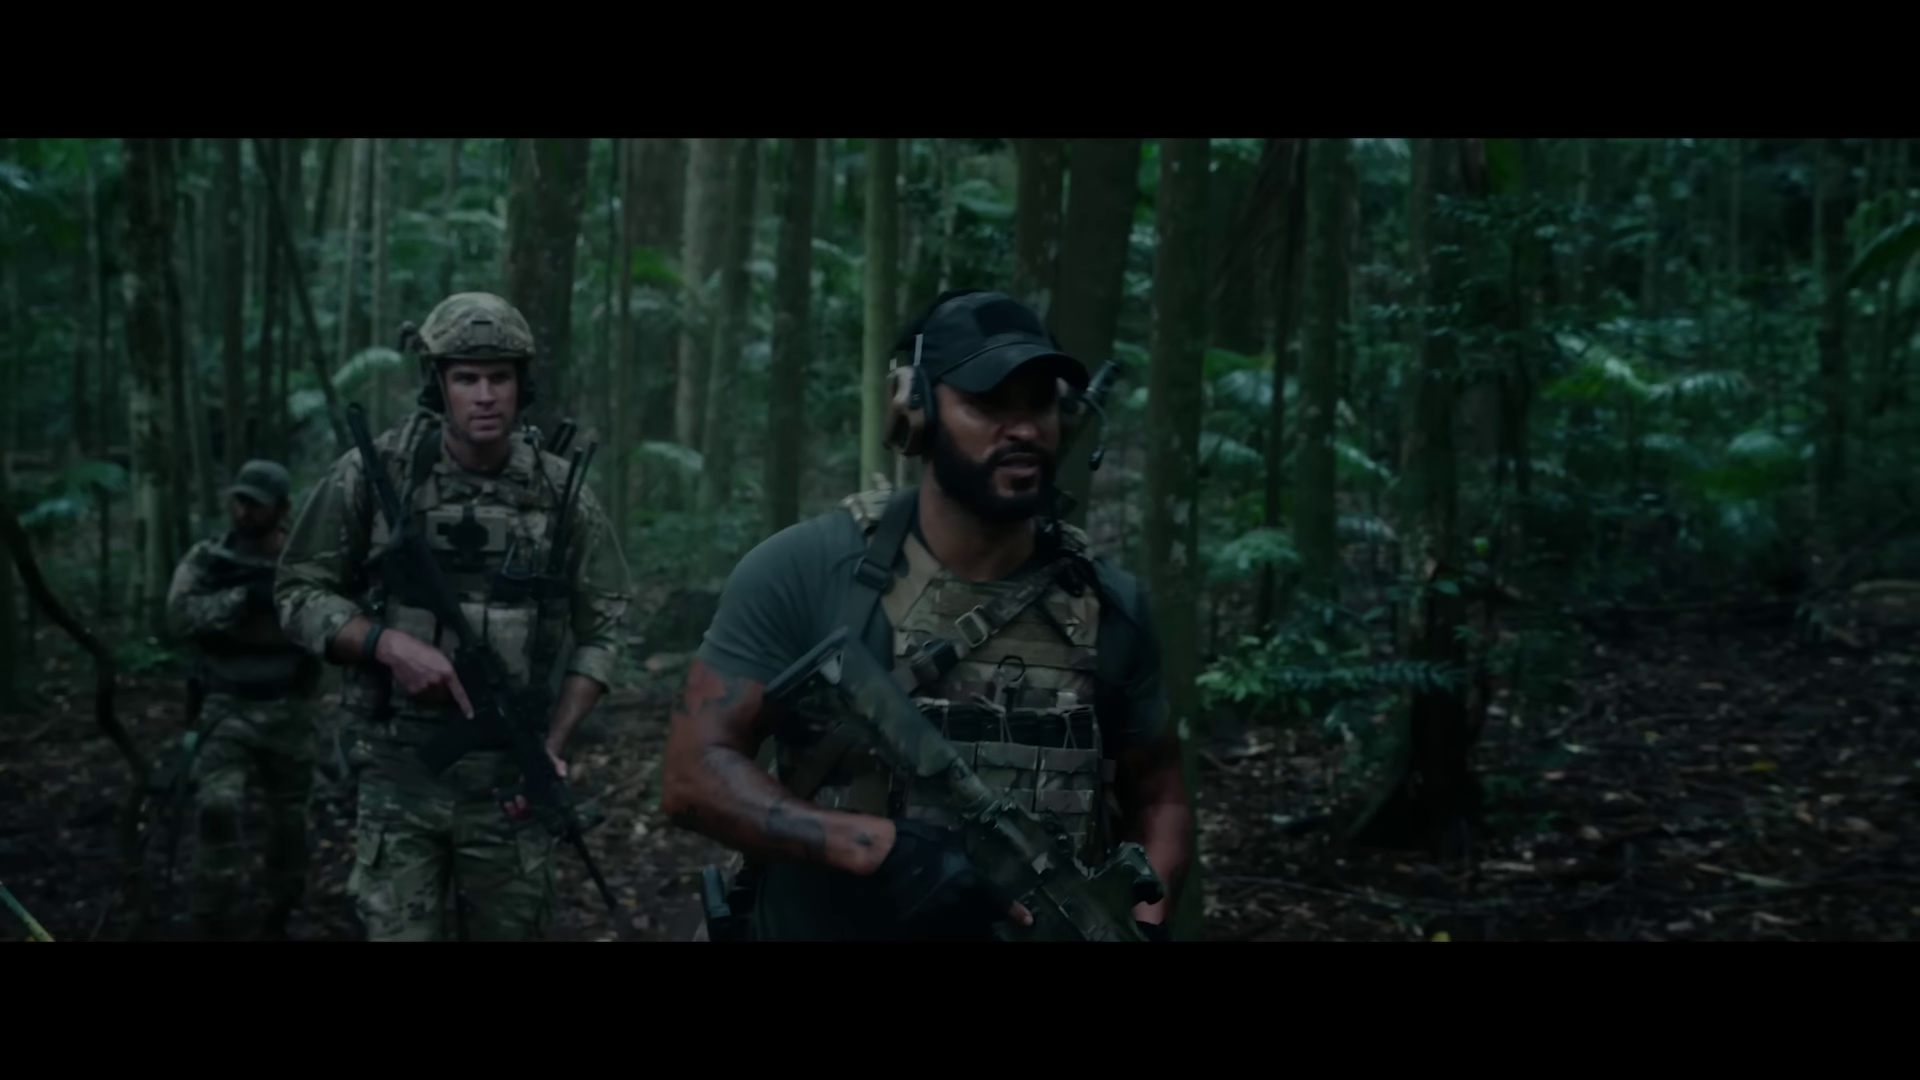gun: (327, 405, 621, 910), (756, 615, 1176, 943), (193, 543, 280, 589)
p_w_gun: (650, 289, 1205, 951), (268, 281, 630, 942), (166, 456, 336, 928)
